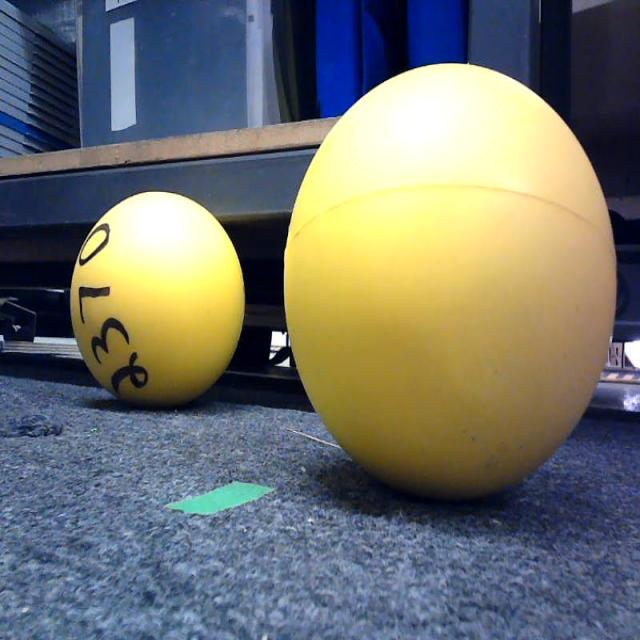Fuel: (283, 61, 618, 503), (70, 190, 246, 411)
